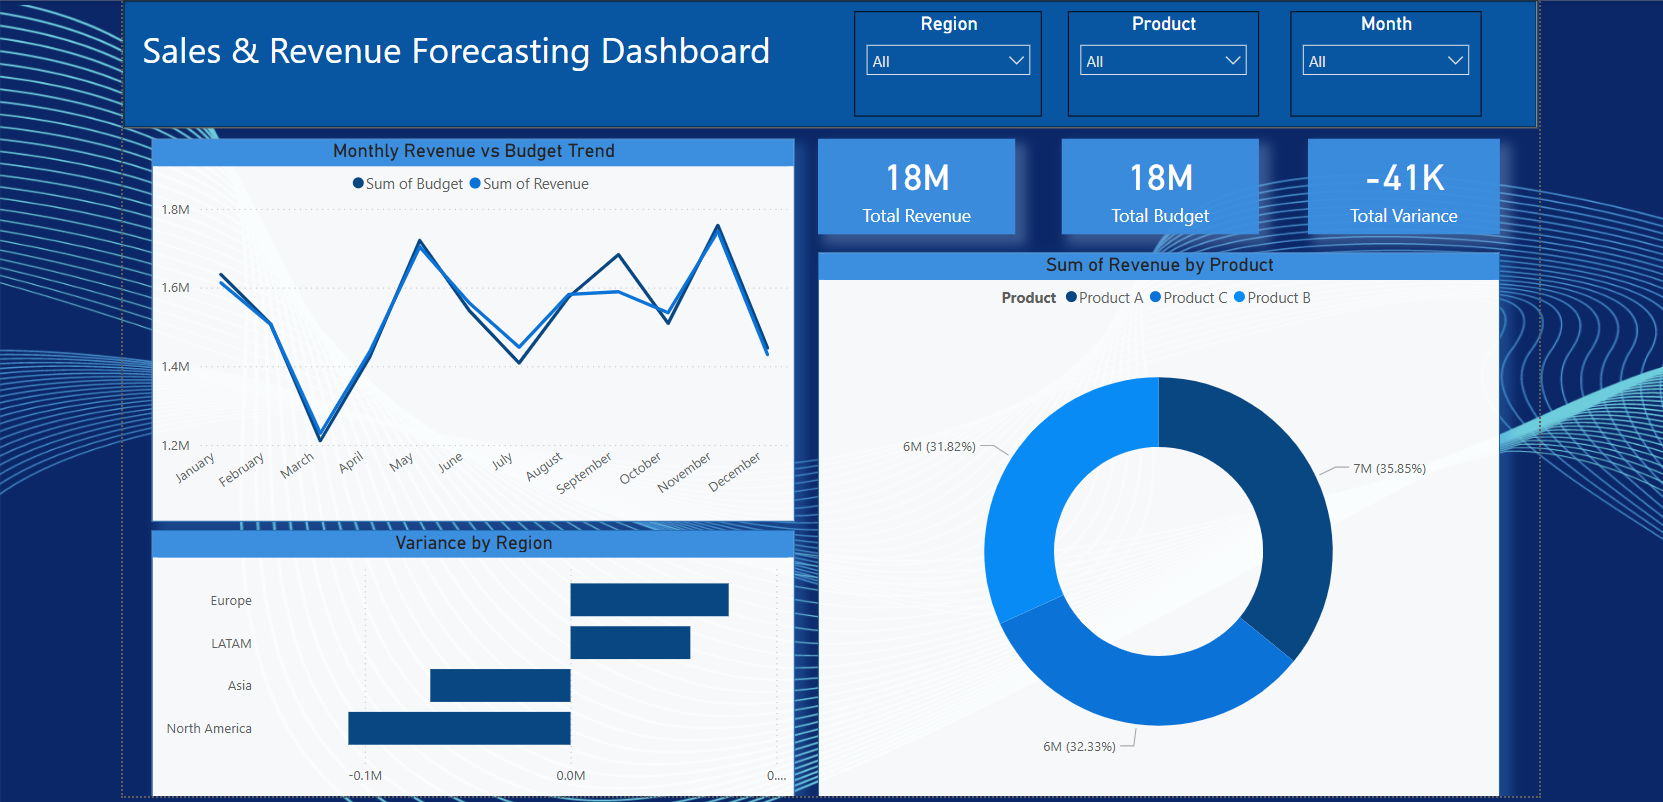

Layout of this report page (visuals, bound fields, positions):
{"tool":"powerbi","page":{"name":"Sales & Revenue Forecasting Dashboard (FP&A View)","canvas":[1280,720],"ordinal":0},"visuals":[{"type":"shape","box":[0,0,1279.7,116.1],"z":0},{"type":"card","fields":{"Values":["Measure.Total Budget"]},"box":[848.7,125.4,178.6,86.2],"z":1000},{"type":"card","fields":{"Values":["Measure.Total Revenue"]},"box":[628.2,125.4,178.6,86.2],"z":2000},{"type":"card","fields":{"Values":["Measure.Total Variance"]},"box":[1071.6,125.4,173.7,86.2],"z":3000},{"type":"lineChart","title":"Monthly Revenue vs Budget Trend","fields":{"Category":["Sheet1.Month.Variation.Date Hierarchy.Month"],"Y":["Sum(Sheet1.Budget)","Sum(Sheet1.Revenue)"]},"box":[25.9,125.6,581.4,346.1],"z":4000},{"type":"clusteredBarChart","title":"Variance by Region","fields":{"Category":["Sheet1.Region"],"Y":["Sum(Sheet1.Variance)"]},"box":[25.9,479.1,581.4,241.4],"z":5000},{"type":"donutChart","fields":{"Category":["Sheet1.Product"],"Y":["Sum(Sheet1.Revenue)"]},"box":[628.2,227.9,617.1,492.7],"z":6000},{"type":"slicer","title":"Region","fields":{"Values":["Sheet1.Region"]},"box":[661.4,9.9,170,94.8],"z":7000},{"type":"slicer","title":"Product","fields":{"Values":["Sheet1.Product"]},"box":[854.8,9.9,172.4,94.8],"z":8000},{"type":"slicer","title":"Month","fields":{"Values":["Sheet1.Month"]},"box":[1055.6,9.9,172.4,94.8],"z":9000},{"type":"textbox","box":[12.3,18.5,628.2,70.2],"z":9001}]}

Visuals, with their boxes in screenshot pixels (x1, y1, x2, y2):
shape: detection(121, 0, 1526, 127)
card - Measure.Total Budget: detection(1053, 138, 1249, 232)
card - Measure.Total Revenue: detection(811, 138, 1007, 232)
card - Measure.Total Variance: detection(1297, 138, 1488, 232)
"Monthly Revenue vs Budget Trend" lineChart: detection(150, 138, 788, 518)
"Variance by Region" clusteredBarChart: detection(150, 526, 788, 791)
donutChart - Sheet1.Product x Sum(Sheet1.Revenue): detection(811, 250, 1488, 791)
"Region" slicer: detection(847, 11, 1034, 115)
"Product" slicer: detection(1059, 11, 1248, 115)
"Month" slicer: detection(1280, 11, 1469, 115)
textbox: detection(135, 20, 824, 97)
